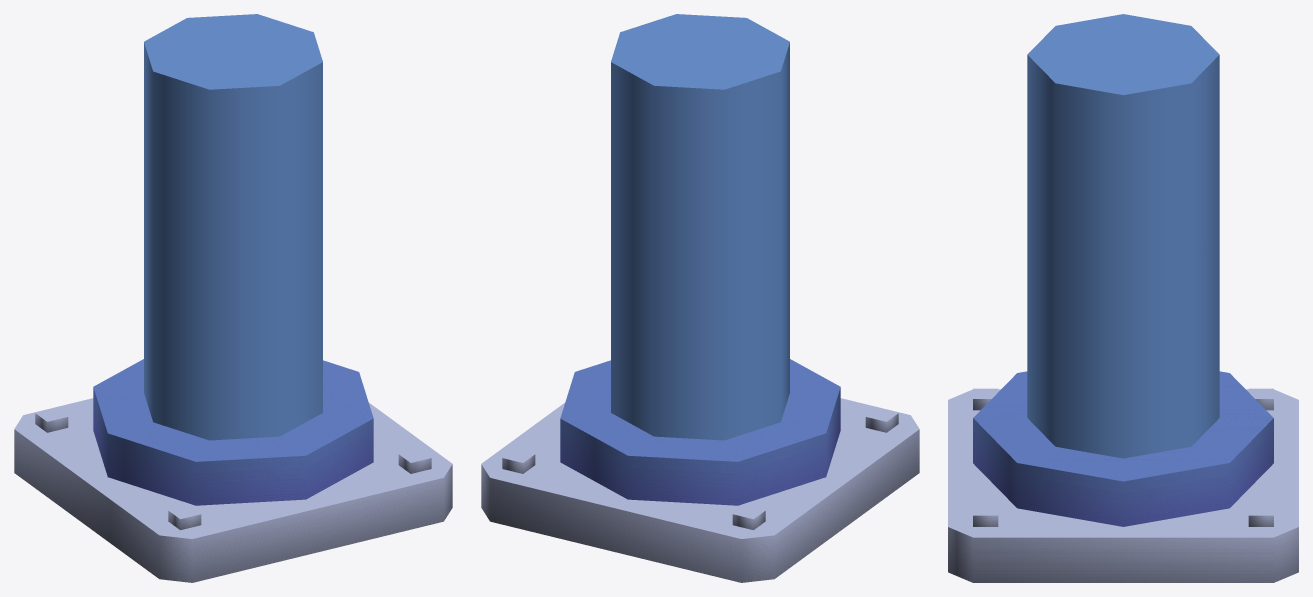
Rendered from support-large-bottom.glb.
The picture shows the model from 3 angles, left to right: view 1: azimuth 30°, elevation 25°; view 2: azimuth 150°, elevation 25°; view 3: azimuth 270°, elevation 25°; orthographic projection. The views are drawn at different scales.
Parts seen in each view (by area): view 1: support-large-bottom; view 2: support-large-bottom; view 3: support-large-bottom.
Boxes of the visible parts, left/top/right/bottom form: support-large-bottom: left=14, top=14, right=452, bottom=582; support-large-bottom: left=481, top=14, right=919, bottom=582; support-large-bottom: left=948, top=14, right=1298, bottom=582.
Bounding box in the file's own units: 2.1 × 3 × 2.1.
1 material, 1 textured.
